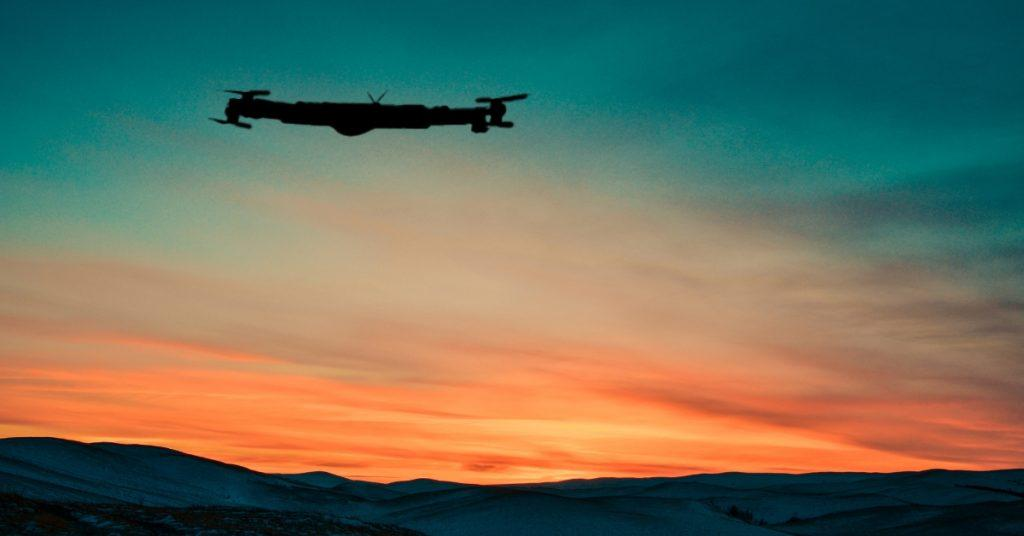drone: (207, 86, 531, 136)
